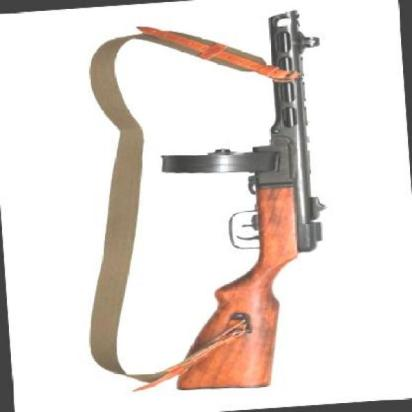Gun: (136, 5, 346, 394)
